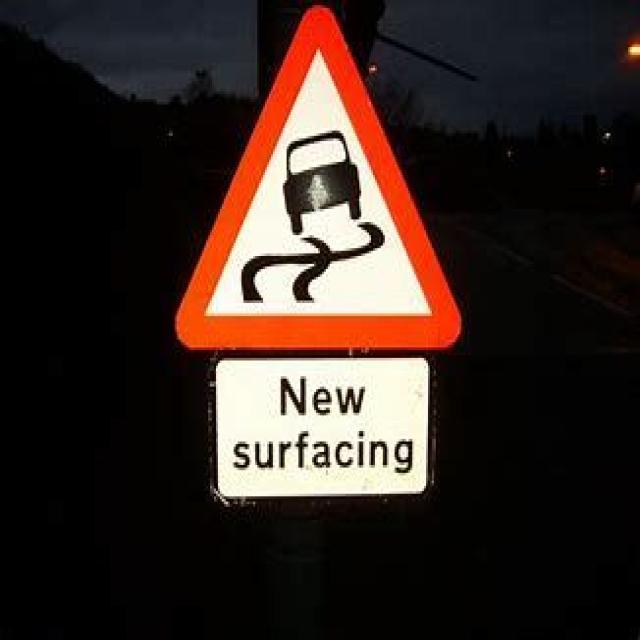SLIPPERY_ROAD: (165, 0, 467, 356)
